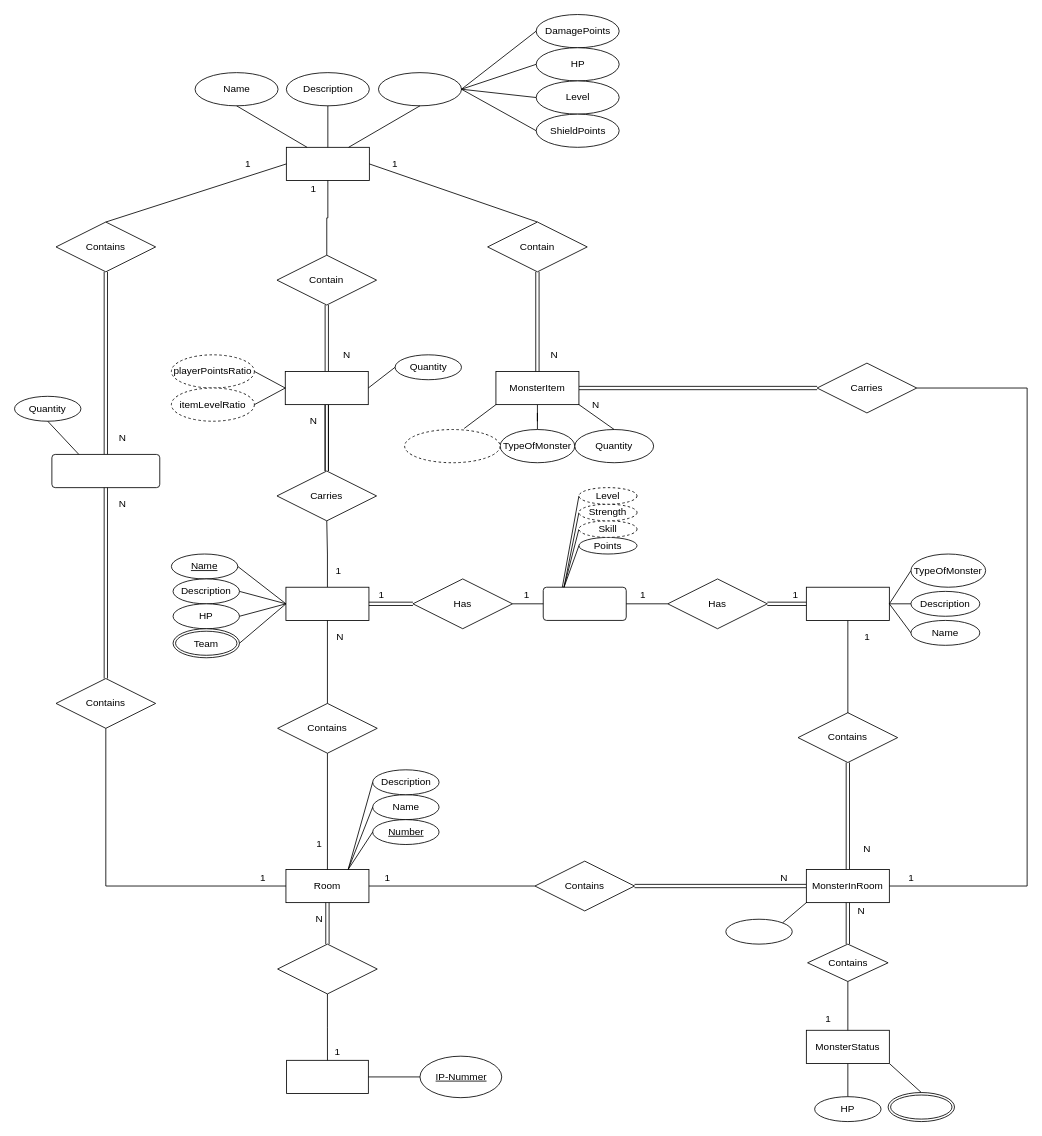
Image size: 1042x1136. Some labels were removed from this diagram. Each missing label, with the centre of its shape:
"Color" goes at (920,1107).
"Id" goes at (758,931).
"Item" goes at (327,163).
"ItemInRoom" goes at (105,471).
"Monster" goes at (847,603).
"monsterPointsRatio" goes at (452,446).
"Player" goes at (327,603).
"PlayerItem" goes at (326,388).
"Relationship" goes at (327,968).
"Server" goes at (327,1076).
"Stats" goes at (584,603).
"TypOfItem" goes at (419,89).
